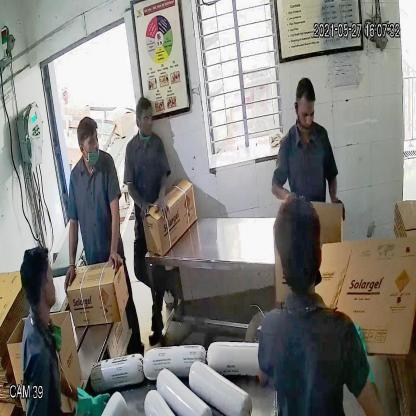no_goggles: (292, 101, 315, 124), (78, 133, 102, 154)
